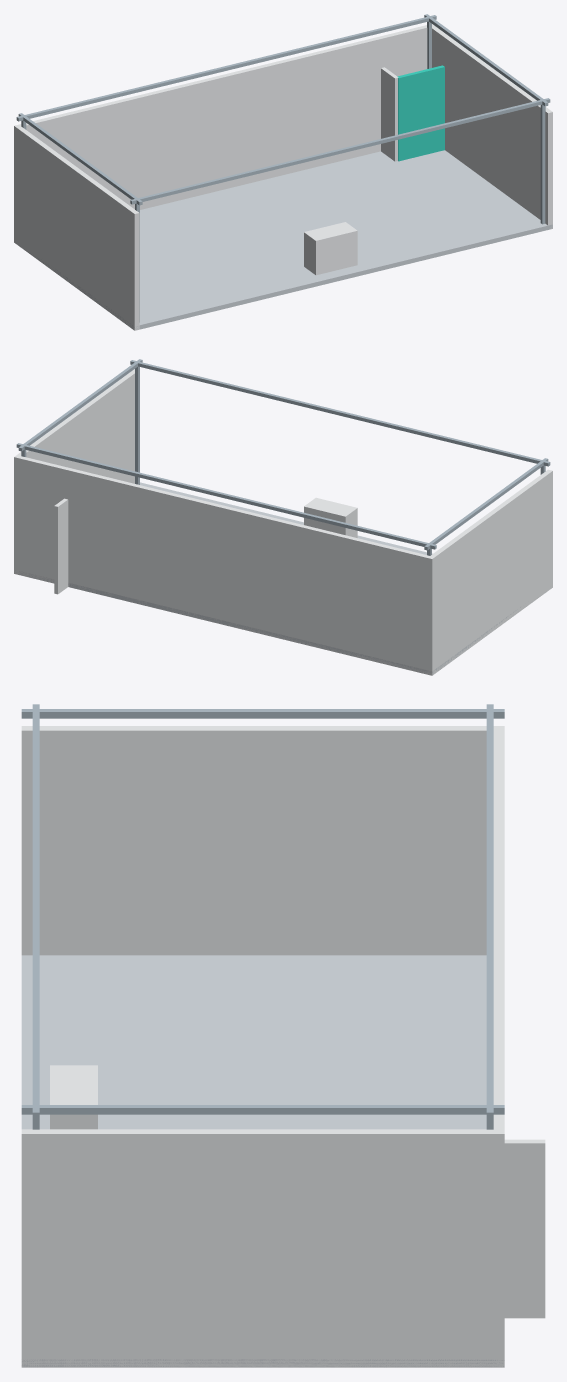
3 renders of one model, top to bottom at view 1: azimuth 30°, elevation 25°; view 2: azimuth 150°, elevation 25°; view 3: azimuth 270°, elevation 25°, orthographic. The views are drawn at different scales.
Parts seen in each view (by area): view 1: Exhibition Booth Concept; view 2: Exhibition Booth Concept; view 3: Exhibition Booth Concept.
Part boxes in pixels (bbox=[...]): Exhibition Booth Concept: bbox=[14, 14, 552, 330]; Exhibition Booth Concept: bbox=[14, 359, 552, 675]; Exhibition Booth Concept: bbox=[21, 704, 545, 1367].
Size of the model in its own units: 12 by 3.49 by 6.51.
